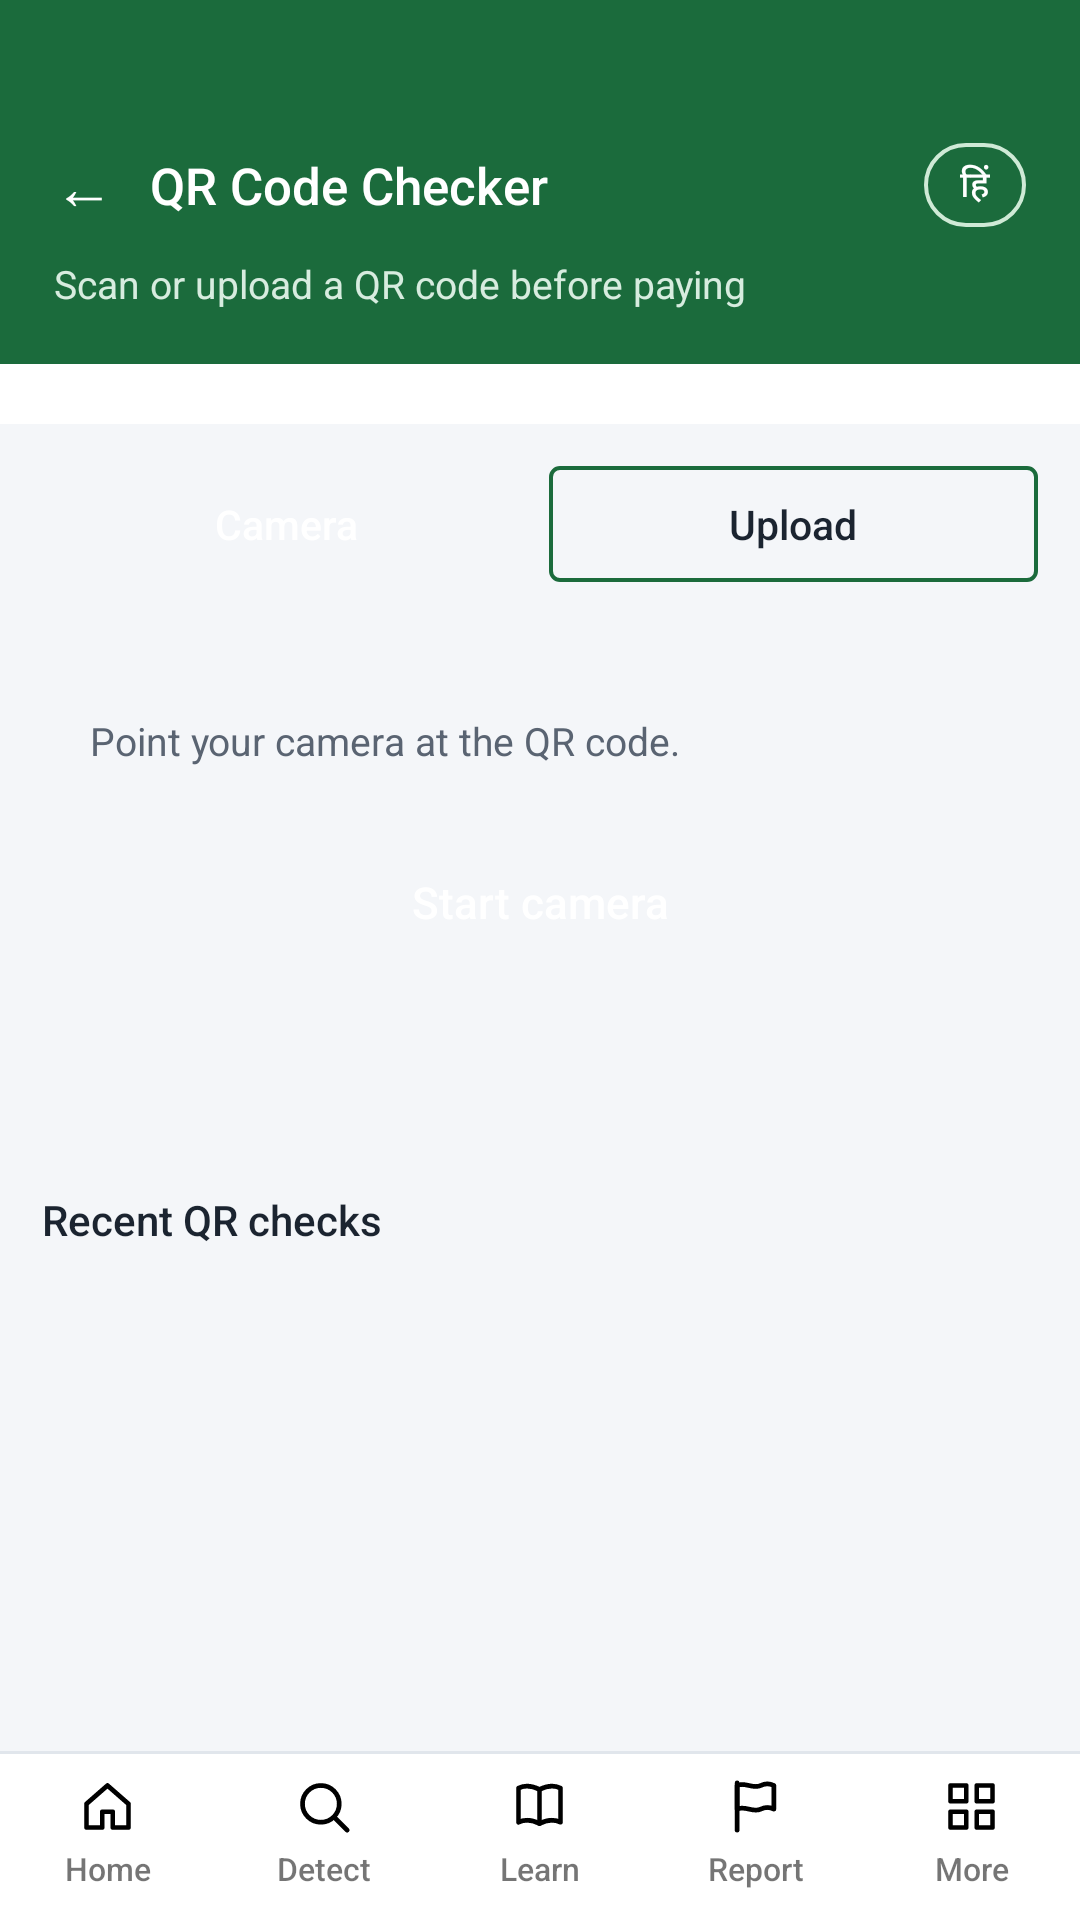

Icon bounding boxes for this 1080 × 1920 phone screenshot, format bbox=(x1, y1, x2, y2):
book: bbox=(516, 1783, 563, 1826)
flag: bbox=(734, 1780, 777, 1833)
grid: bbox=(948, 1783, 995, 1830)
search: bbox=(300, 1783, 350, 1833)
